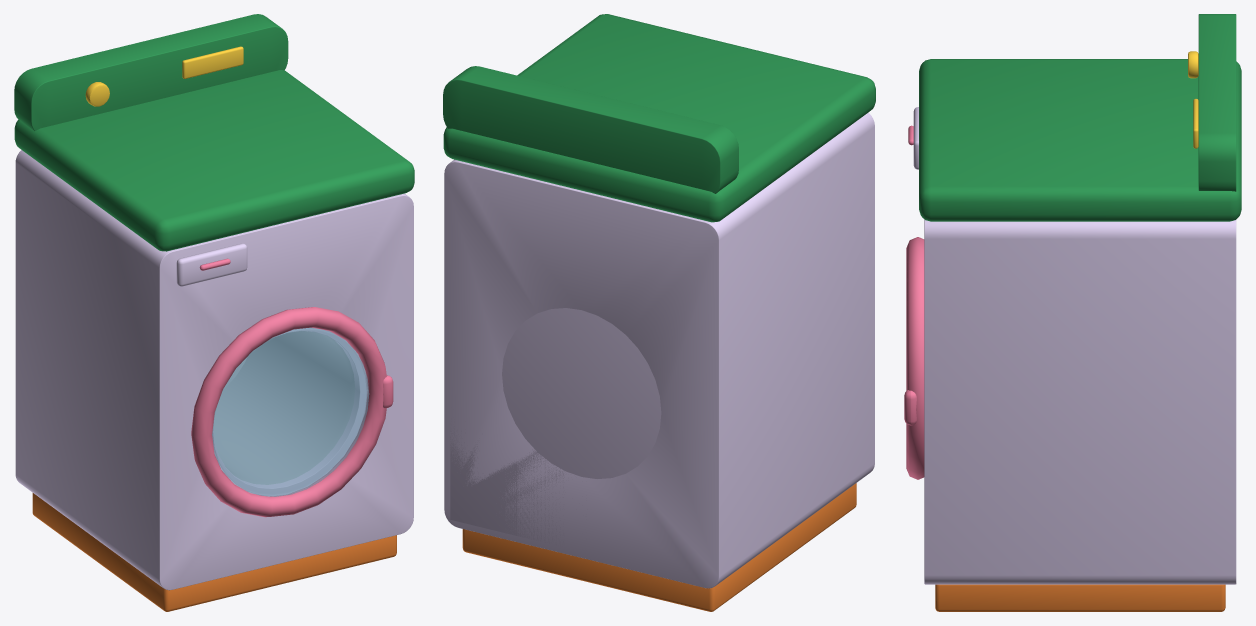
Rendered from maquina_lavar_modulo_verde.glb.
The picture shows the model from 3 angles, left to right: view 1: azimuth 30°, elevation 25°; view 2: azimuth 150°, elevation 25°; view 3: azimuth 270°, elevation 25°; orthographic projection. The views are drawn at different scales.
Parts seen in each view (by area): view 1: maquina_lavar_modulo_verde, porta_1, gaveta_1; view 2: maquina_lavar_modulo_verde; view 3: maquina_lavar_modulo_verde, porta_1, gaveta_1.
Boxes of the visible parts, x1,y1,x2,y2 form: maquina_lavar_modulo_verde: [14, 14, 414, 611]; porta_1: [191, 307, 393, 517]; gaveta_1: [176, 243, 247, 286]; maquina_lavar_modulo_verde: [443, 14, 875, 611]; maquina_lavar_modulo_verde: [919, 14, 1241, 611]; porta_1: [904, 237, 924, 479]; gaveta_1: [908, 107, 918, 169].
Bounding box in the file's own units: 0.6 × 0.98 × 0.6275.
2 materials, 1 textured.
